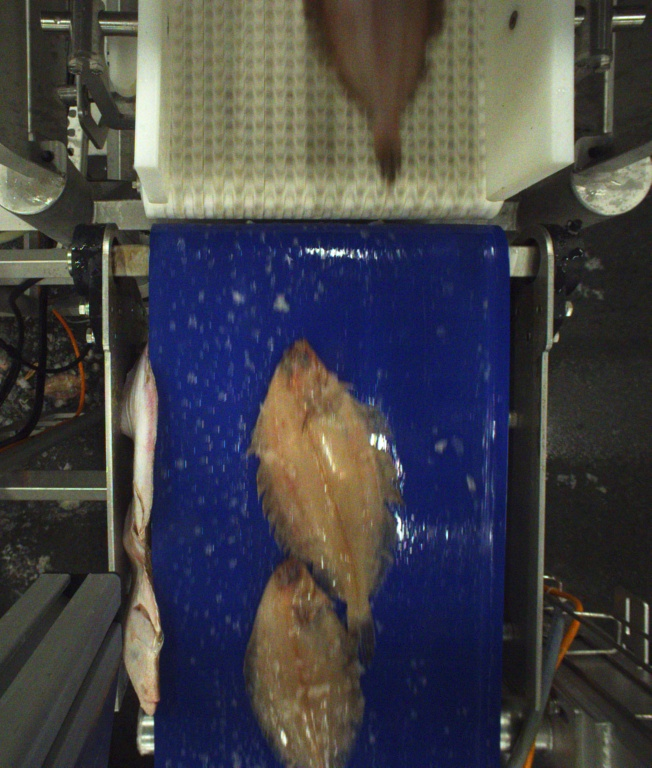WIT: (246, 559, 367, 768)
